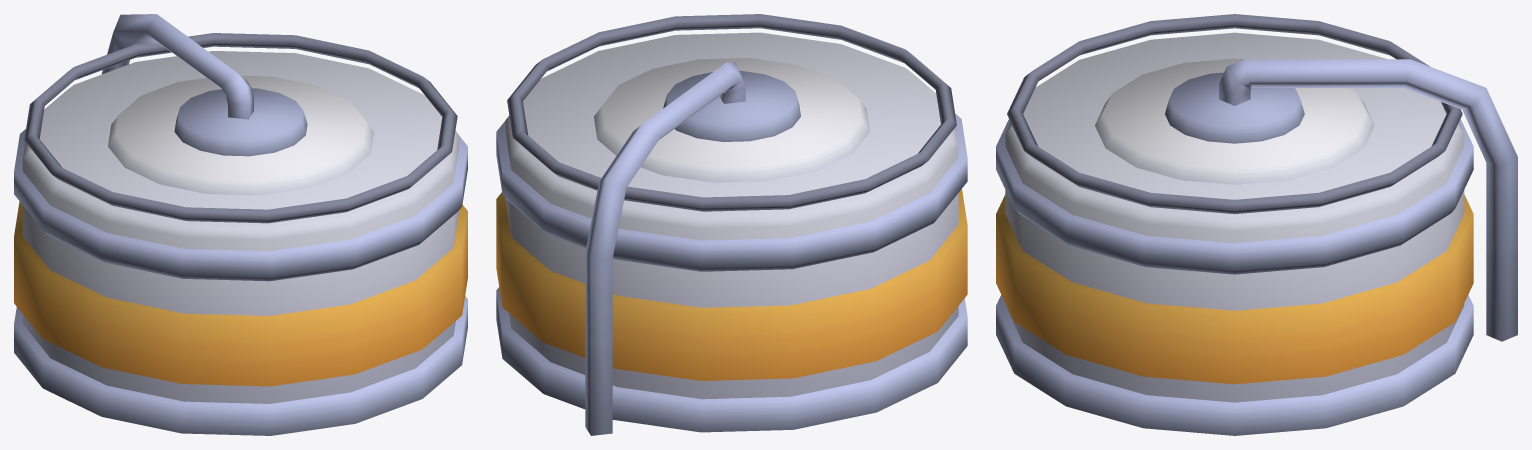
File: k-city-kit-industrial-detail-tank-large.glb
3 views of the same model, side by side, from view 1: azimuth 30°, elevation 25°; view 2: azimuth 150°, elevation 25°; view 3: azimuth 270°, elevation 25° (orthographic). The views are drawn at different scales.
Visible parts, largest first — view 1: detail-tank-large; view 2: detail-tank-large; view 3: detail-tank-large.
Boxes of the visible parts, x1=… form: detail-tank-large: x1=14, y1=14, x2=467, y2=435; detail-tank-large: x1=496, y1=14, x2=967, y2=435; detail-tank-large: x1=996, y1=14, x2=1517, y2=435.
Size of the model in its own units: 1.51 by 0.9616 by 1.65.
Materials: 1 (1 with a texture image).
